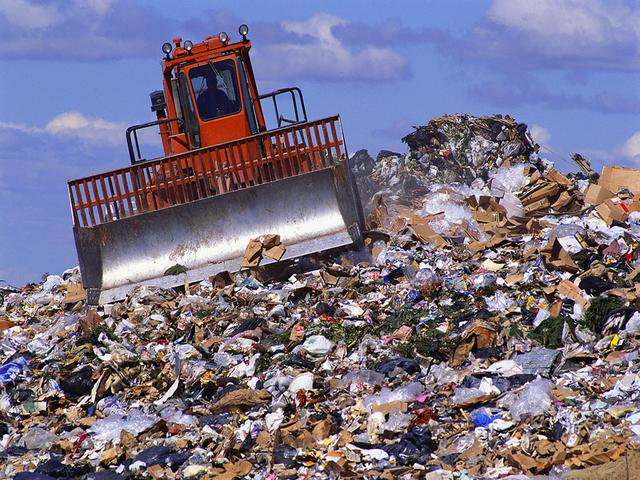garbage: (49, 321, 603, 460), (385, 161, 609, 352)
